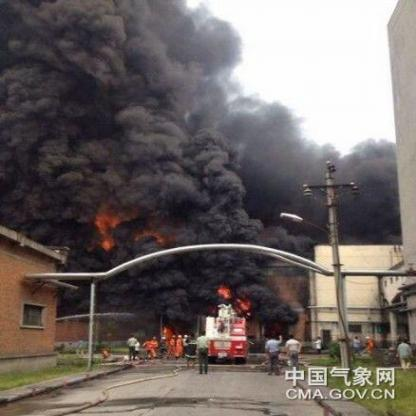smoke: (2, 0, 289, 309)
